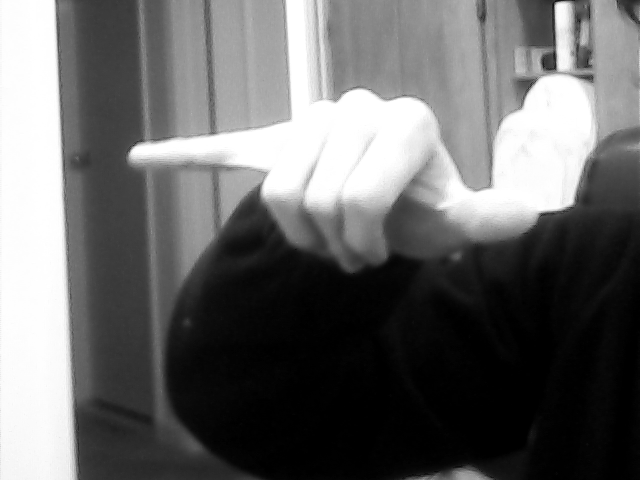aloha: (122, 84, 544, 279)
